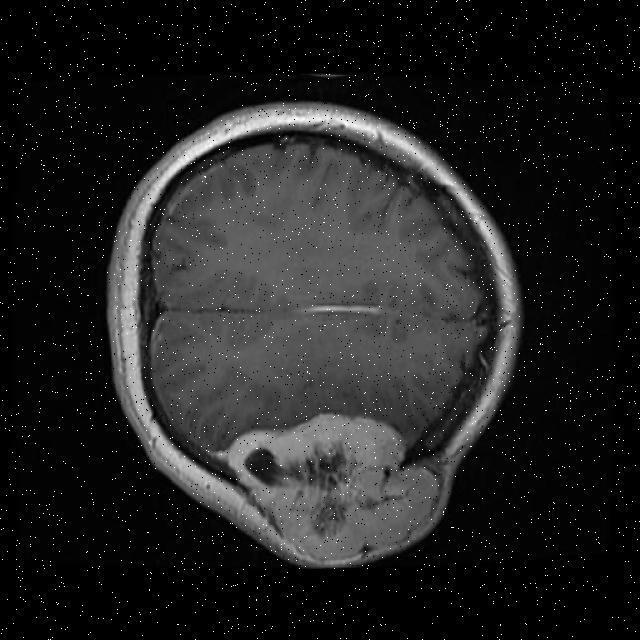Meningioma: (224, 415, 439, 561)
